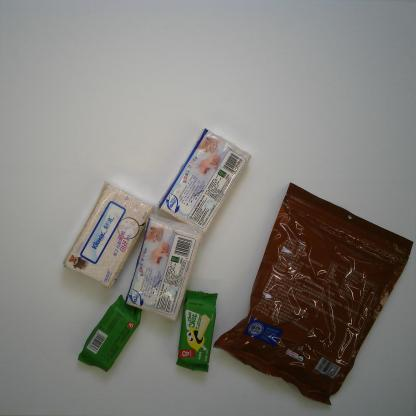Dessert: (76, 292, 144, 374), (173, 290, 217, 374)
Dried Food: (213, 182, 415, 408)
Tissue: (155, 124, 251, 237), (63, 180, 154, 291), (125, 213, 203, 324)
